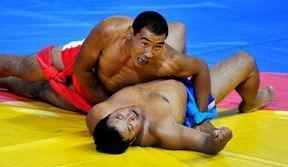Fall-Detected: (29, 9, 286, 154)
